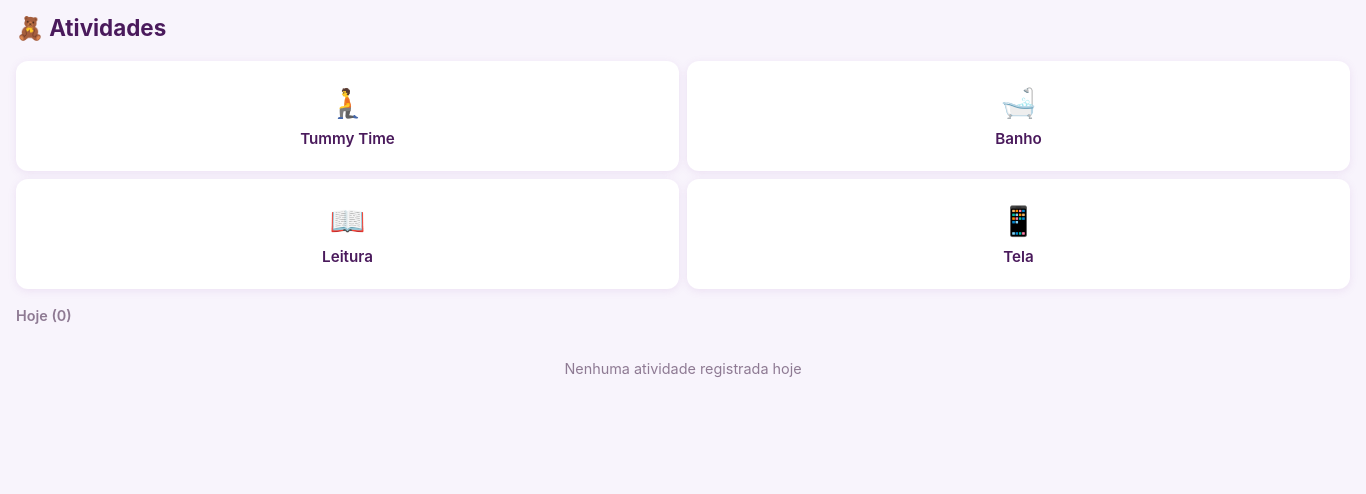
Activities › shows form when activity is clicked
The image size is (1366, 494).
Click the text "Tummy Time".
click(347, 139)  # box [300,128,395,151]
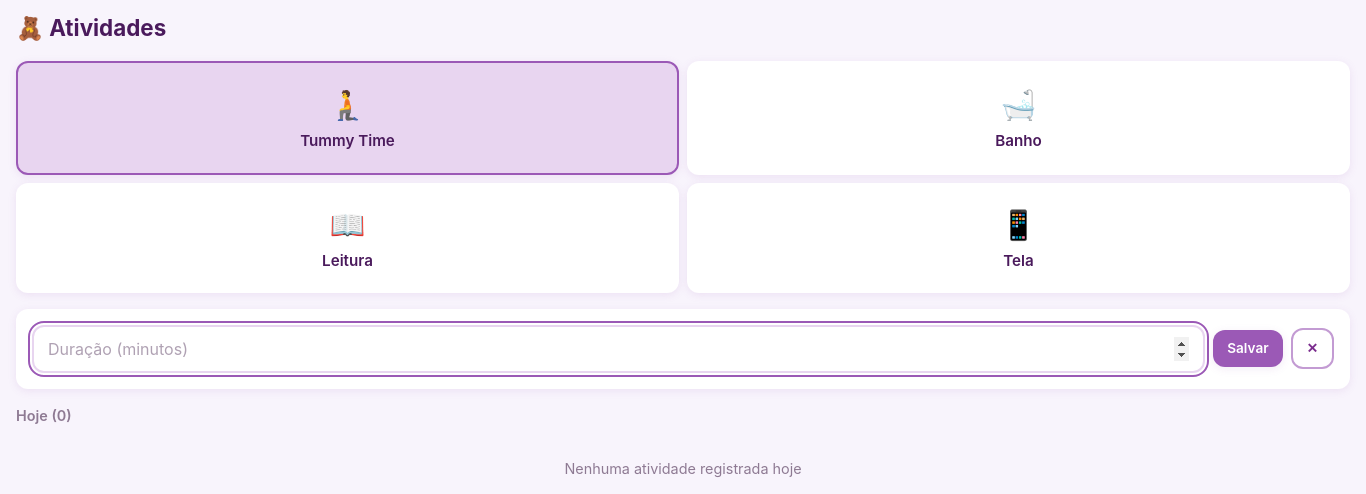
Check: the number field with placeholder "Duração (minutos)" is shown, box [32,325,1205,373]
Check: the button "Salvar" is shown, box [1213,330,1283,367]
